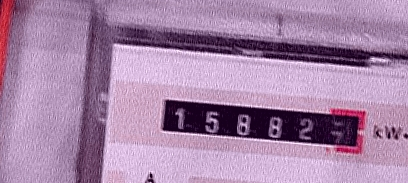1: (169, 106, 185, 132)
2: (294, 115, 313, 143)
5: (200, 109, 218, 135)
7: (325, 128, 341, 145)
8: (231, 112, 250, 137), (263, 113, 281, 139)
screen: (144, 84, 374, 165)
